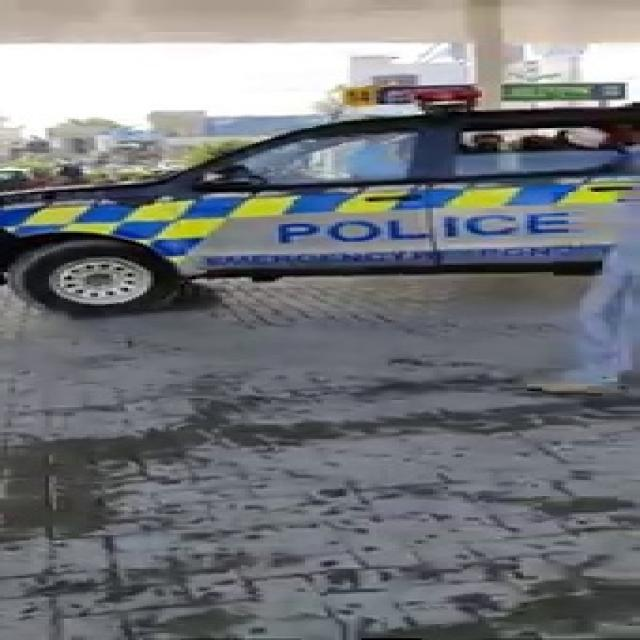police: (56, 94, 628, 315)
